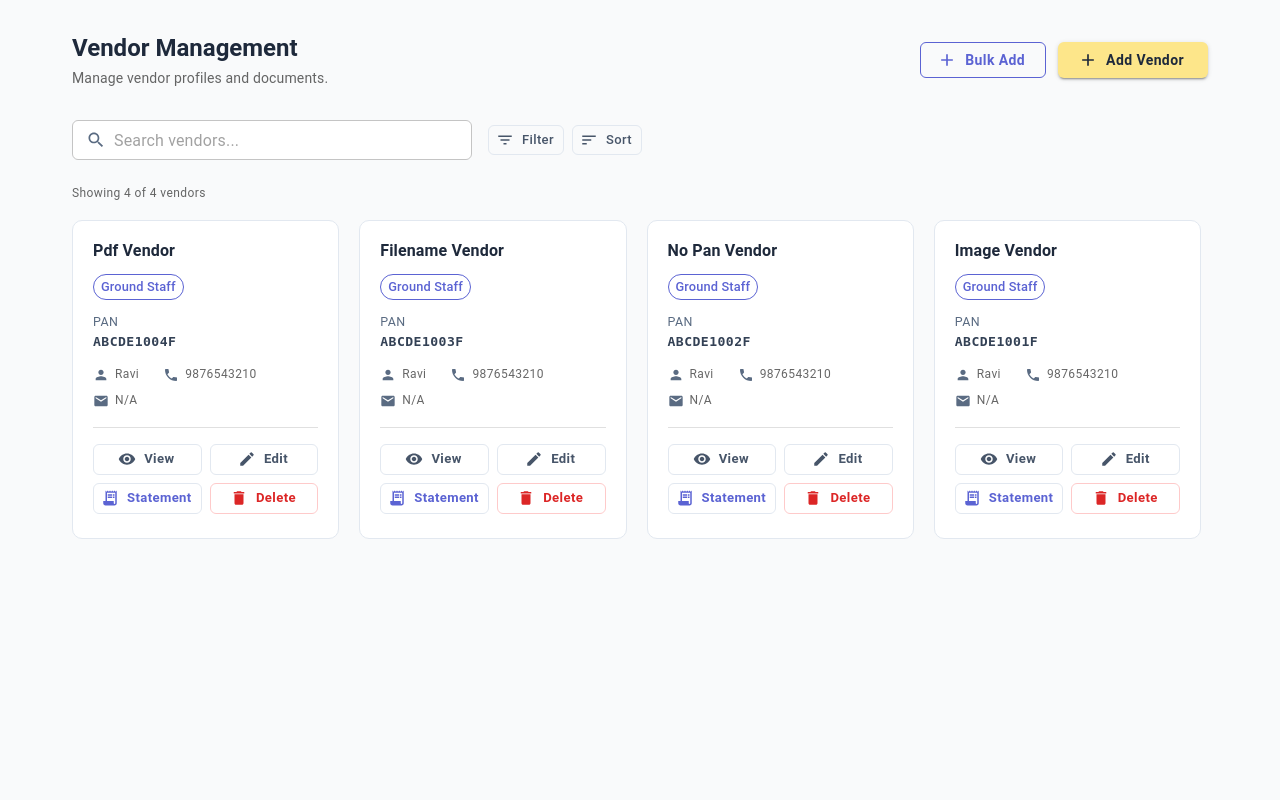
detail view › a bare filename shows its text as today, with no fetch
The width and height of the screenshot is (1280, 800).
Click the button "View" below "ABCDE1003F": {"x": 435, "y": 459} [380, 444, 489, 475]
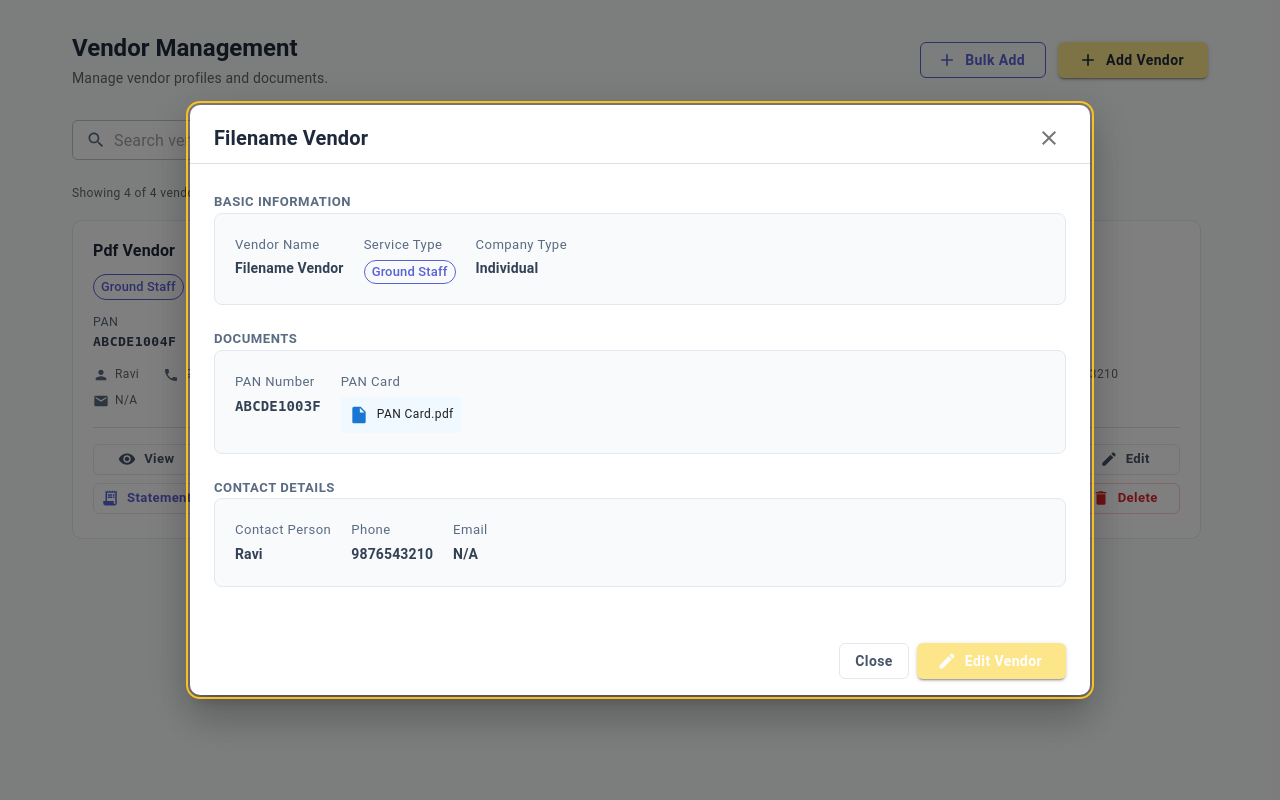
Expected: the text "PAN Card.pdf" is shown, [377, 405, 454, 425]
